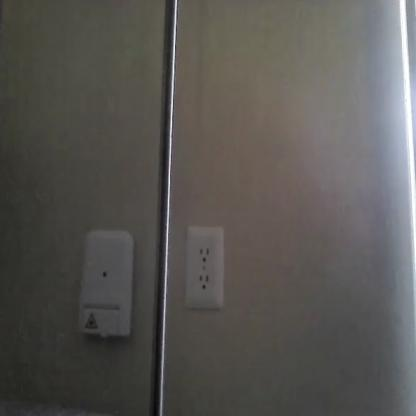OUTLET: (182, 226, 226, 310)
